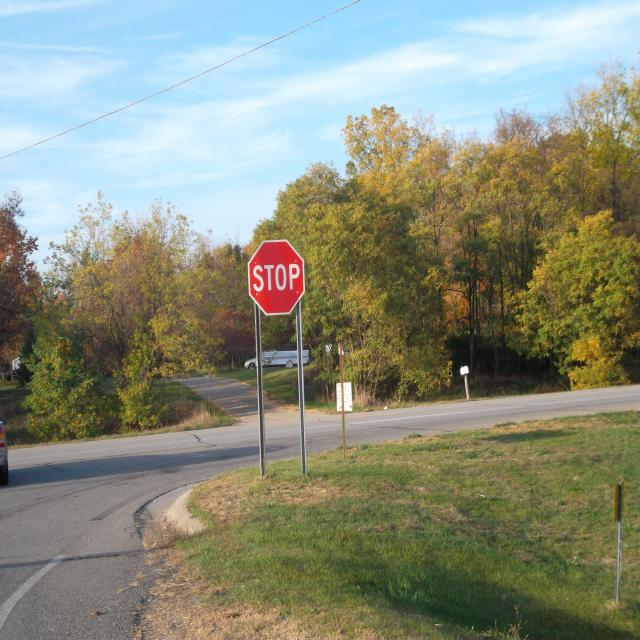stop: (250, 242, 306, 318)
